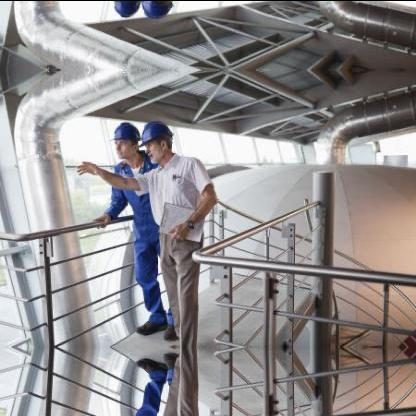Helmet: (133, 118, 179, 165), (106, 117, 144, 167), (132, 0, 180, 19), (106, 0, 144, 20)
